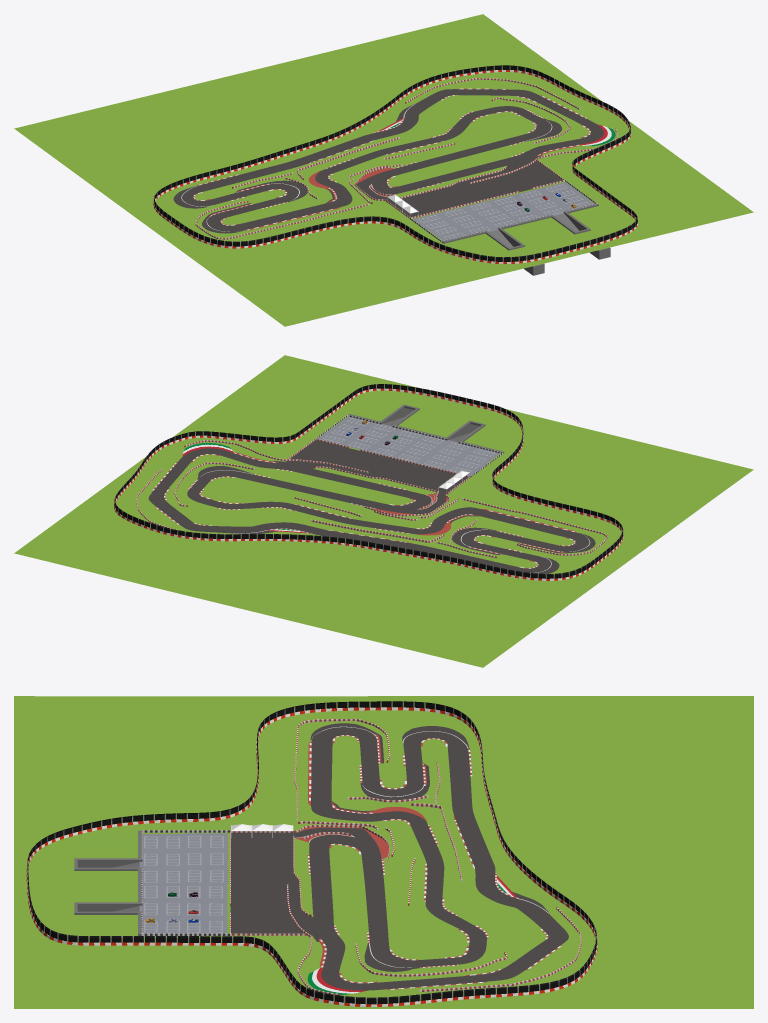
File: parking_lot.glb
3 views of the same model, one above another, from view 1: azimuth 30°, elevation 25°; view 2: azimuth 150°, elevation 25°; view 3: azimuth 270°, elevation 25° (orthographic). The views are drawn at different scales.
Parts seen in each view (by area): view 1: Plane.009, TRACK, Cube, Plane.013, TRACK.001, PARKING, PARKING_PARKING_0.001, PARKING_PARKING_0.002, PARKING_PARKING_0.003, BARRIER3; view 2: Plane.009, TRACK, Cube, Plane.013, TRACK.001, PARKING_PARKING_0.002, PARKING_PARKING_0.001, PARKING, PARKING_PARKING_0.003, BARRIER3; view 3: Plane.009, TRACK, Plane.013, Cube, TRACK.001, PARKING, PARKING_PARKING_0.002, PARKING_PARKING_0.003, PARKING_PARKING_0.001, BARRIER_PITS.003, BARRIER9.
Part boxes in pixels (x1,y1,x2,y2): Plane.009: (14,14,753,326); TRACK: (173,88,615,233); Cube: (153,65,638,264); Plane.013: (442,203,643,276); TRACK.001: (389,162,562,217); PARKING: (412,200,505,230); PARKING_PARKING_0.001: (488,182,581,211); PARKING_PARKING_0.002: (429,212,520,240); PARKING_PARKING_0.003: (504,194,594,222); BARRIER3: (195,201,369,239); Plane.009: (14,355,753,667); TRACK: (148,443,595,575); Cube: (114,384,623,580); Plane.013: (348,382,549,453); TRACK.001: (290,440,468,494); PARKING_PARKING_0.002: (409,434,499,464); PARKING_PARKING_0.001: (318,427,409,457); PARKING: (393,446,485,475); PARKING_PARKING_0.003: (333,416,422,446); BARRIER3: (462,498,607,555); Plane.009: (14,696,753,1008); TRACK: (293,723,568,994); Plane.013: (14,830,141,935); Cube: (26,701,597,1006); TRACK.001: (230,832,299,933); PARKING: (183,833,227,884); PARKING_PARKING_0.002: (139,834,184,885); PARKING_PARKING_0.003: (139,883,184,933); PARKING_PARKING_0.001: (184,885,227,933); BARRIER_PITS.003: (141,830,229,935); BARRIER9: (419,907,581,991).
Size of the model in its own units: 63.26 by 2.31 by 63.26.
55 materials, 5 textured.
